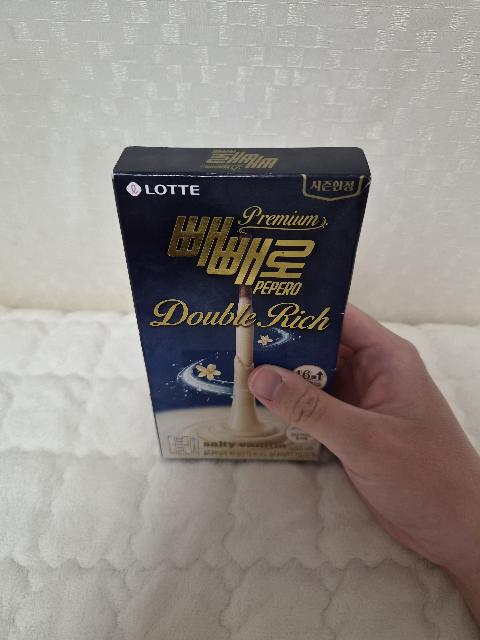pepero: (111, 146, 371, 460)
